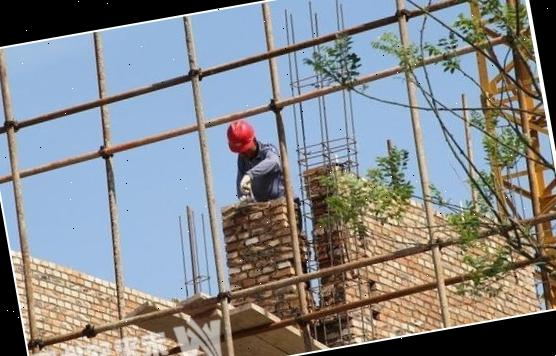helmet: (222, 114, 256, 155)
wear: (237, 146, 283, 201)
